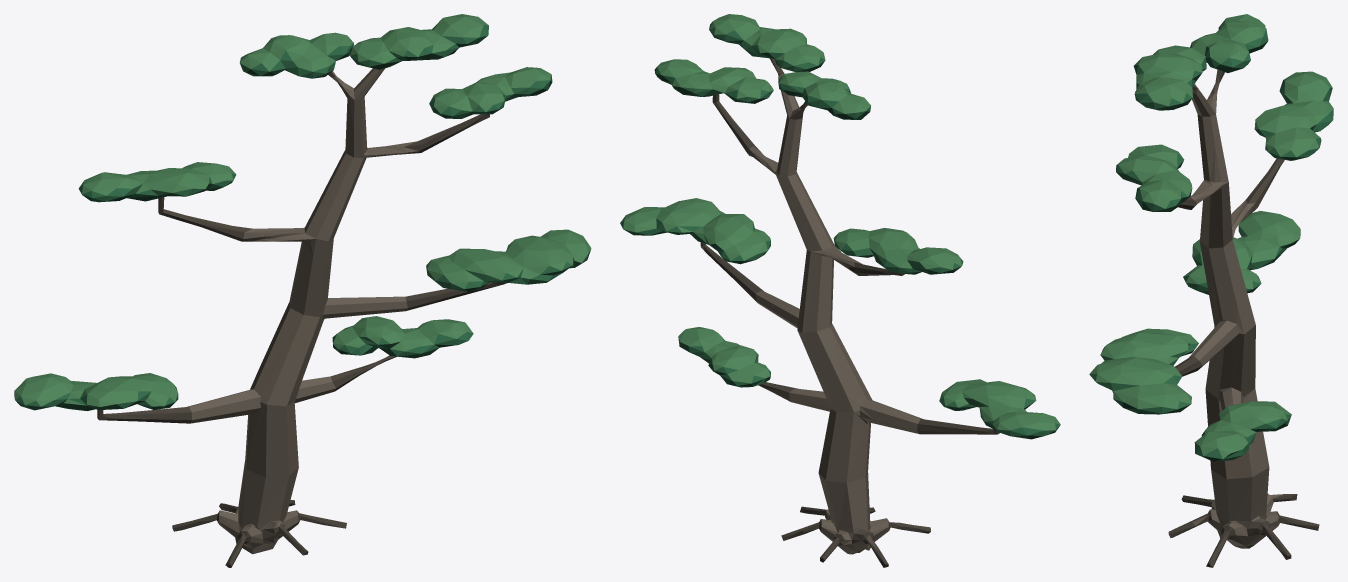
The model's file is ancient-pine-829-lod1.glb.
3 renders of one model, left to right at view 1: azimuth 30°, elevation 25°; view 2: azimuth 150°, elevation 25°; view 3: azimuth 270°, elevation 25°, orthographic. The views are drawn at different scales.
Parts seen in each view (by area): view 1: n8.005, n12.005, n11.005, n9.005, n10.005; view 2: n12.005, n8.005, n11.005, n9.005, n10.005; view 3: n12.005, n8.005, n11.005, n9.005, n10.005.
Part boxes in pixels (box(x1,y1,x2,y2)): n8.005: box(187, 68, 419, 554); n12.005: box(14, 14, 591, 406); n11.005: box(14, 25, 588, 408); n9.005: box(97, 72, 506, 567); n10.005: box(15, 35, 590, 410); n12.005: box(620, 14, 1060, 430); n8.005: box(749, 74, 923, 554); n11.005: box(620, 21, 1060, 436); n9.005: box(700, 58, 999, 567); n10.005: box(623, 30, 1059, 439); n12.005: box(1089, 14, 1333, 458); n8.005: box(1189, 70, 1286, 548); n11.005: box(1089, 26, 1333, 459); n9.005: box(1168, 70, 1319, 567); n10.005: box(1096, 41, 1330, 461).
Size of the model in its own units: 5.74 by 5.43 by 2.18.
